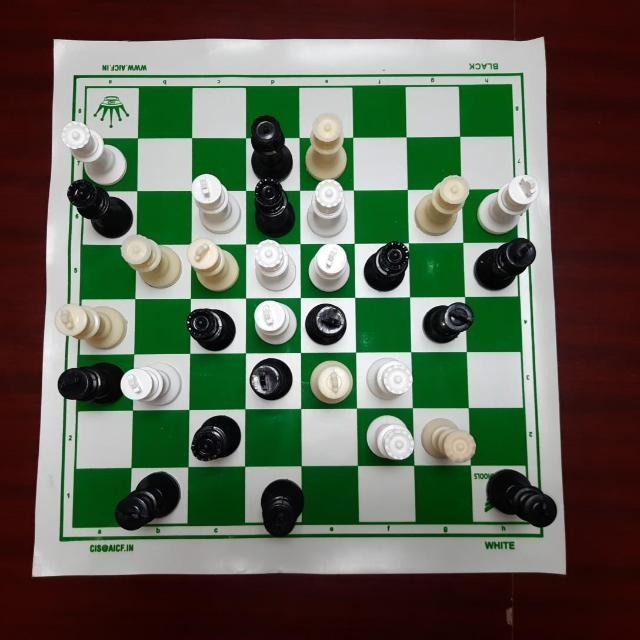black-king: (479, 470, 564, 537), (469, 232, 539, 296), (111, 467, 177, 532), (54, 354, 128, 405), (255, 478, 305, 542), (300, 299, 357, 349), (422, 297, 476, 347), (252, 355, 296, 403)
black-queen: (60, 173, 138, 239), (246, 110, 303, 182), (184, 411, 248, 469), (360, 237, 414, 298), (247, 176, 301, 237), (184, 302, 240, 360)
white-king: (53, 295, 135, 355), (473, 173, 539, 239), (185, 172, 244, 240), (118, 355, 186, 410), (301, 352, 362, 409), (300, 237, 355, 298), (184, 237, 239, 291), (247, 298, 301, 350)
white-queen: (59, 116, 125, 185), (410, 168, 470, 242), (299, 114, 357, 183), (116, 233, 186, 290), (352, 409, 418, 467), (417, 417, 481, 466), (299, 175, 349, 237), (357, 358, 419, 406), (247, 234, 299, 291)
